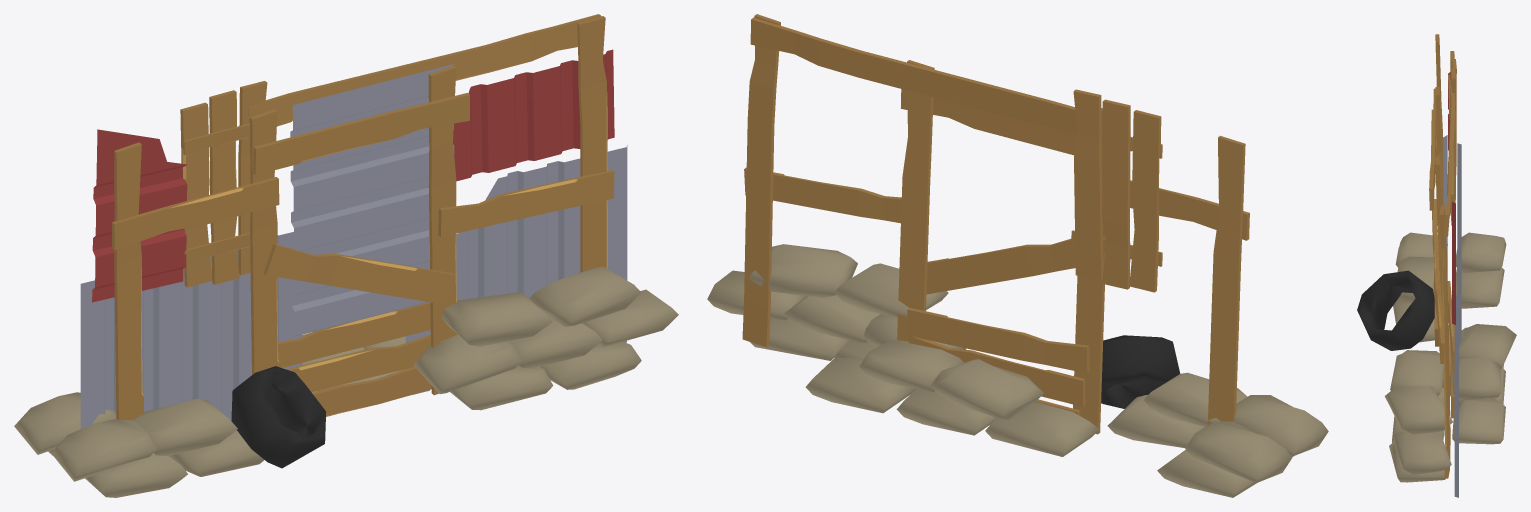
The model's file is barrier_trash.glb.
3 views of the same model, side by side, from view 1: azimuth 30°, elevation 25°; view 2: azimuth 150°, elevation 25°; view 3: azimuth 270°, elevation 25° (orthographic). The views are drawn at different scales.
Visible parts, largest first — view 1: Barrier_Trash; view 2: Barrier_Trash; view 3: Barrier_Trash.
Part boxes in pixels (x1,y1,x2,y2): Barrier_Trash: [14, 14, 678, 497]; Barrier_Trash: [707, 14, 1328, 497]; Barrier_Trash: [1357, 34, 1516, 497].
Size of the model in its own units: 4.47 by 2.51 by 1.29.
1 material, 1 textured.
